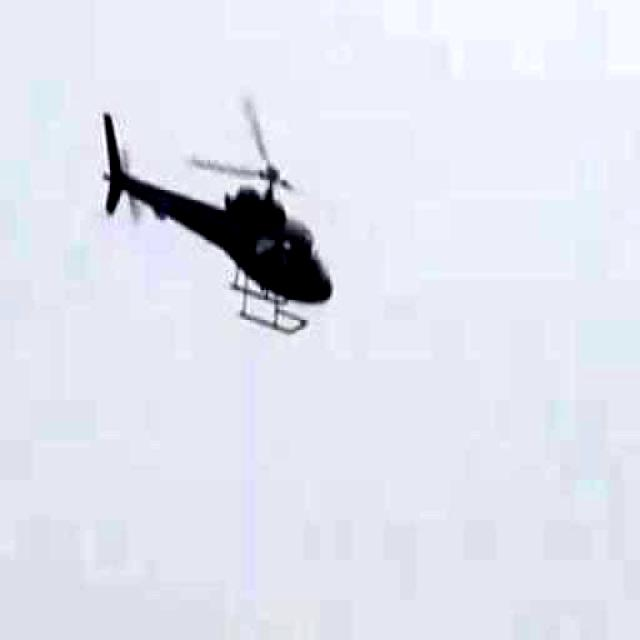drone: (99, 76, 339, 382)
